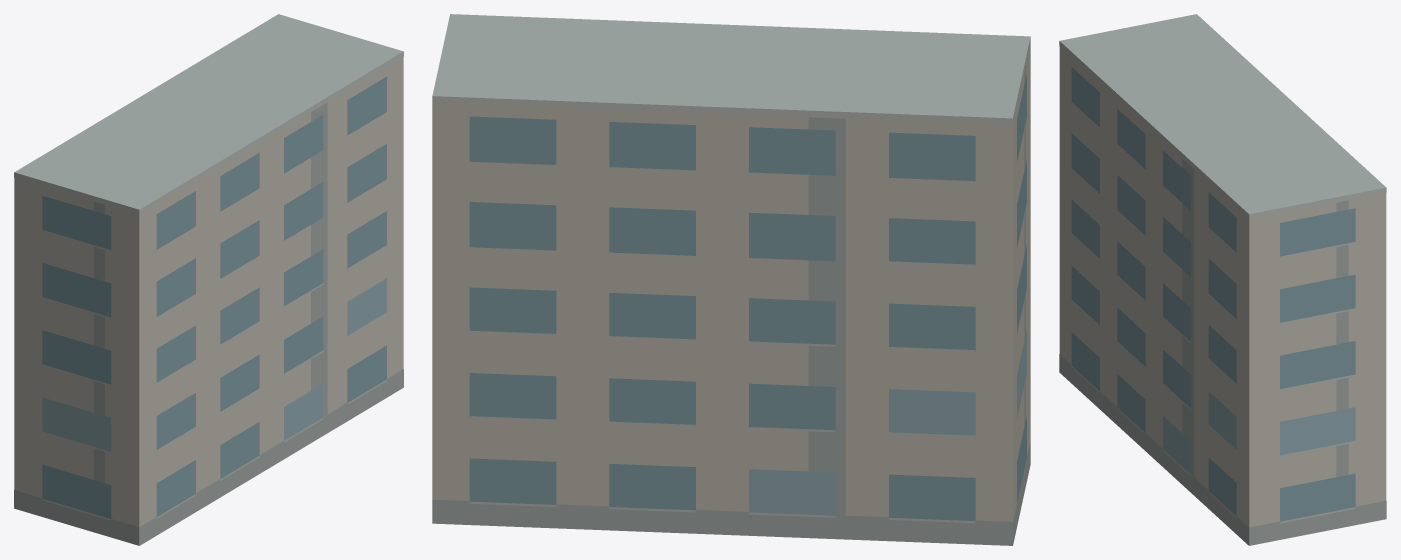
The model's file is residential-33f92964-38fc-4781-8f97-a064414633fd.glb.
3 views of the same model, side by side, from view 1: azimuth 30°, elevation 25°; view 2: azimuth 150°, elevation 25°; view 3: azimuth 270°, elevation 25° (orthographic). The views are drawn at different scales.
Visible parts, largest first — view 1: residential-33f92964-38fc-4781-8f97-a064414633fd.tmp; view 2: residential-33f92964-38fc-4781-8f97-a064414633fd.tmp; view 3: residential-33f92964-38fc-4781-8f97-a064414633fd.tmp.
Part boxes in pixels (box(x1,y1,x2,y2)): residential-33f92964-38fc-4781-8f97-a064414633fd.tmp: box(14, 14, 403, 545); residential-33f92964-38fc-4781-8f97-a064414633fd.tmp: box(432, 14, 1030, 545); residential-33f92964-38fc-4781-8f97-a064414633fd.tmp: box(1059, 14, 1386, 545).
Size of the model in its own units: 19.76 by 15.25 by 13.64.
